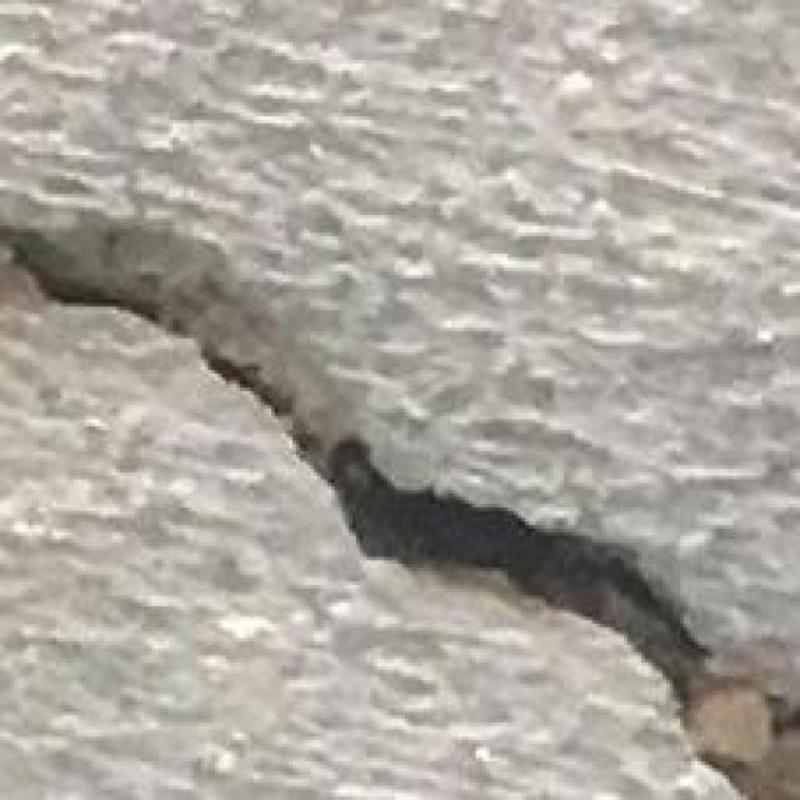pothole: (14, 233, 799, 799)
